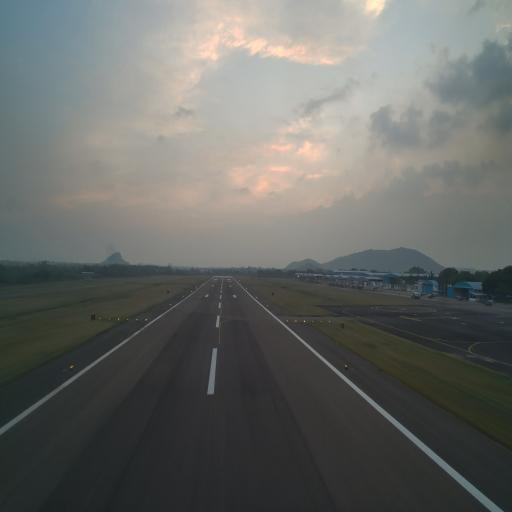on: (344, 362, 349, 371), (70, 363, 74, 374)
